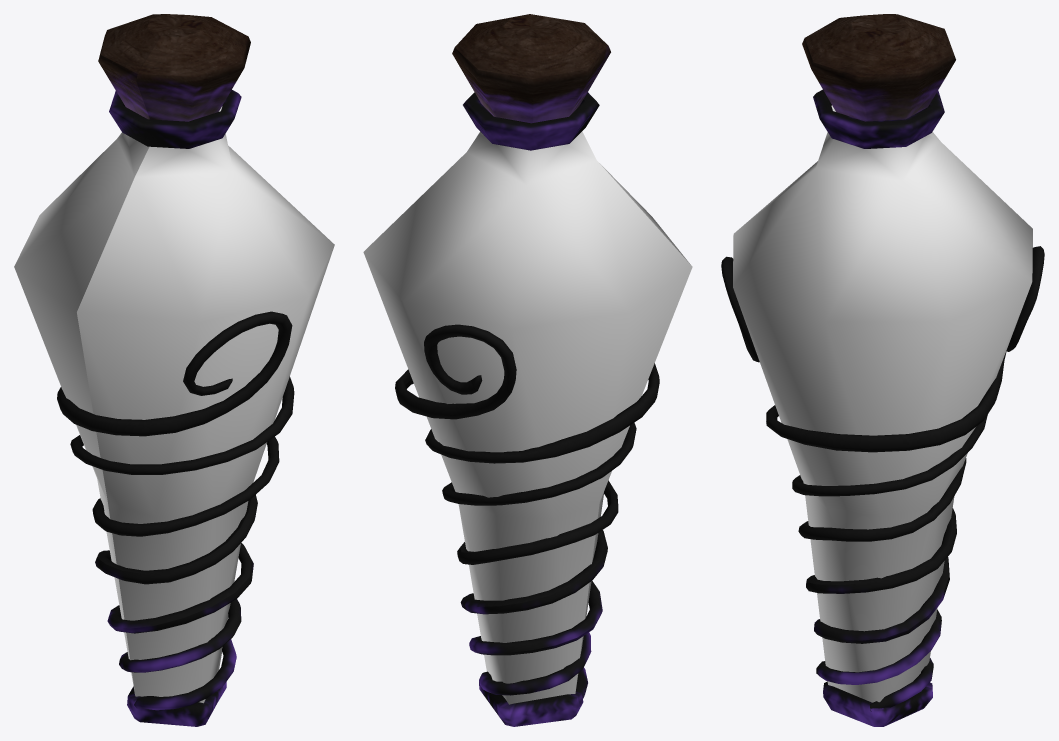
File: potion.fbx
3 views of the same model, side by side, from view 1: azimuth 30°, elevation 25°; view 2: azimuth 150°, elevation 25°; view 3: azimuth 270°, elevation 25° (orthographic).
Visible parts, largest first — view 1: liq_low; view 2: liq_low; view 3: liq_low.
Boxes of the visible parts, x1,y1,x2,y2 form: liq_low: (14, 14, 334, 726); liq_low: (363, 14, 692, 726); liq_low: (721, 14, 1044, 726).
Size of the model in its own units: 0.9448 by 2.34 by 1.01.
